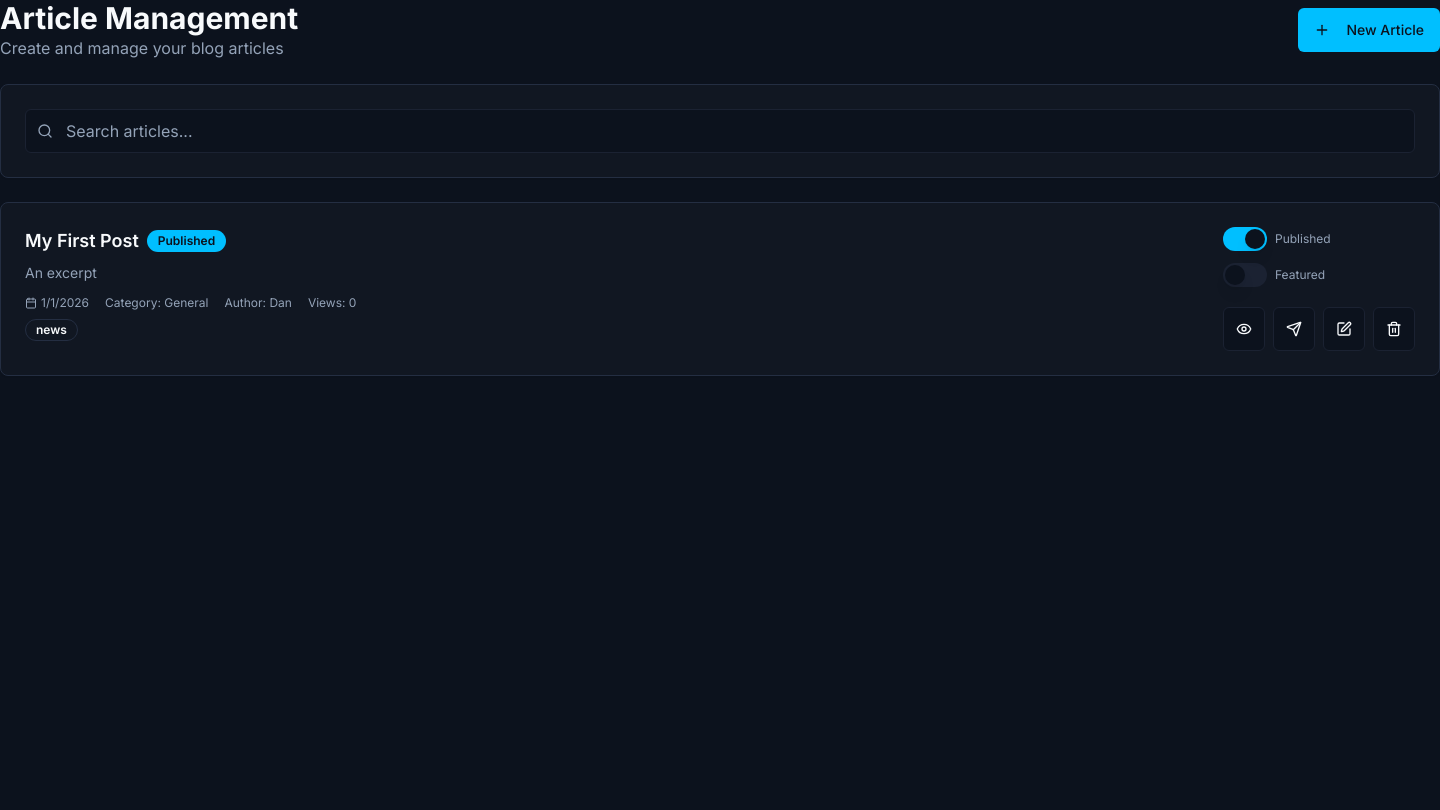
Test: ArticleManager › loads the body before opening the editor, since the list does not carry it
The width and height of the screenshot is (1440, 810).
expect the heading "My First Post" is shown: met, box [25,227,139,255]
Click the button named "Edit article". click: (1344, 329)
box: [1323,307,1365,351]
(page scrolled)
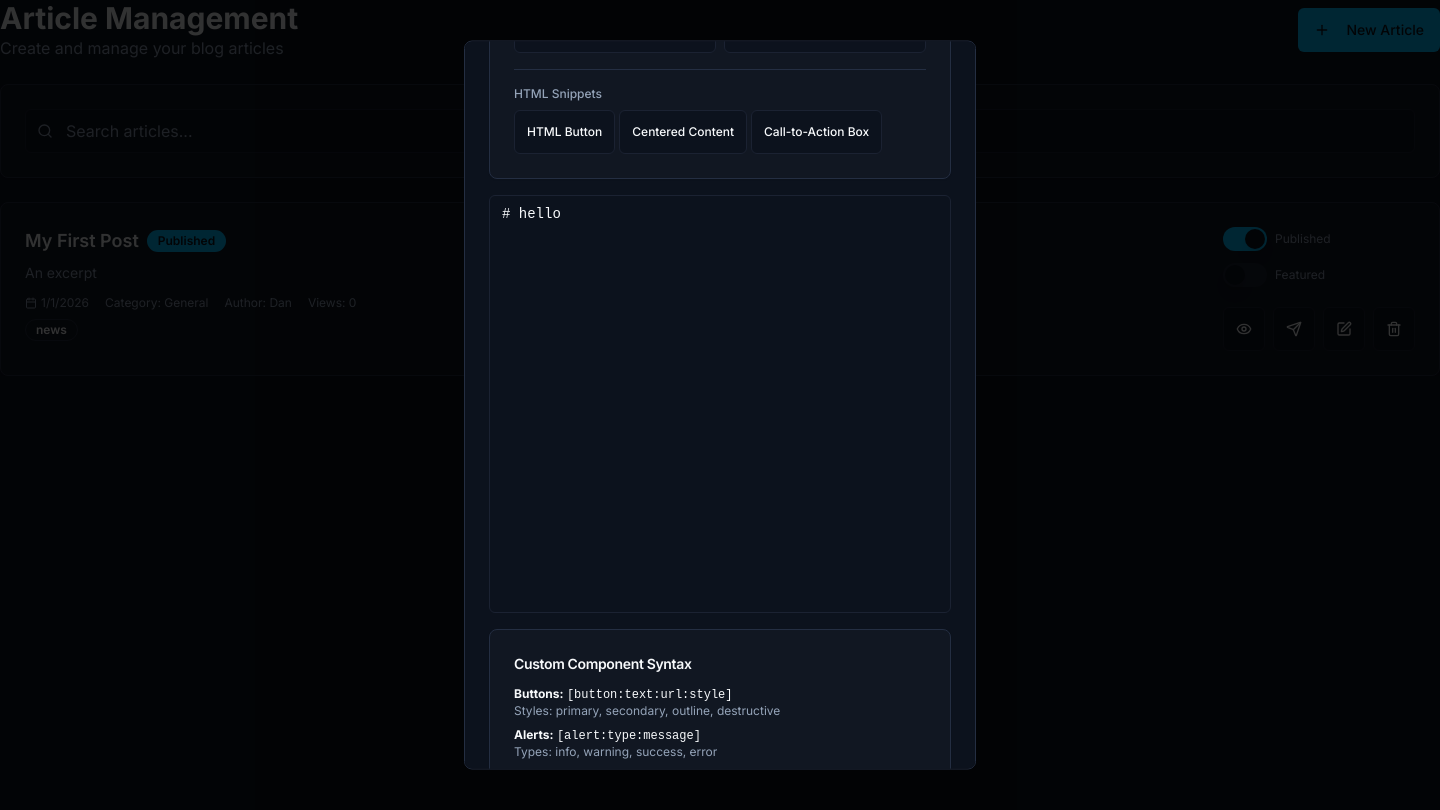
expect the text box showing "# hello" is shown: met, box [489,196,951,614]
